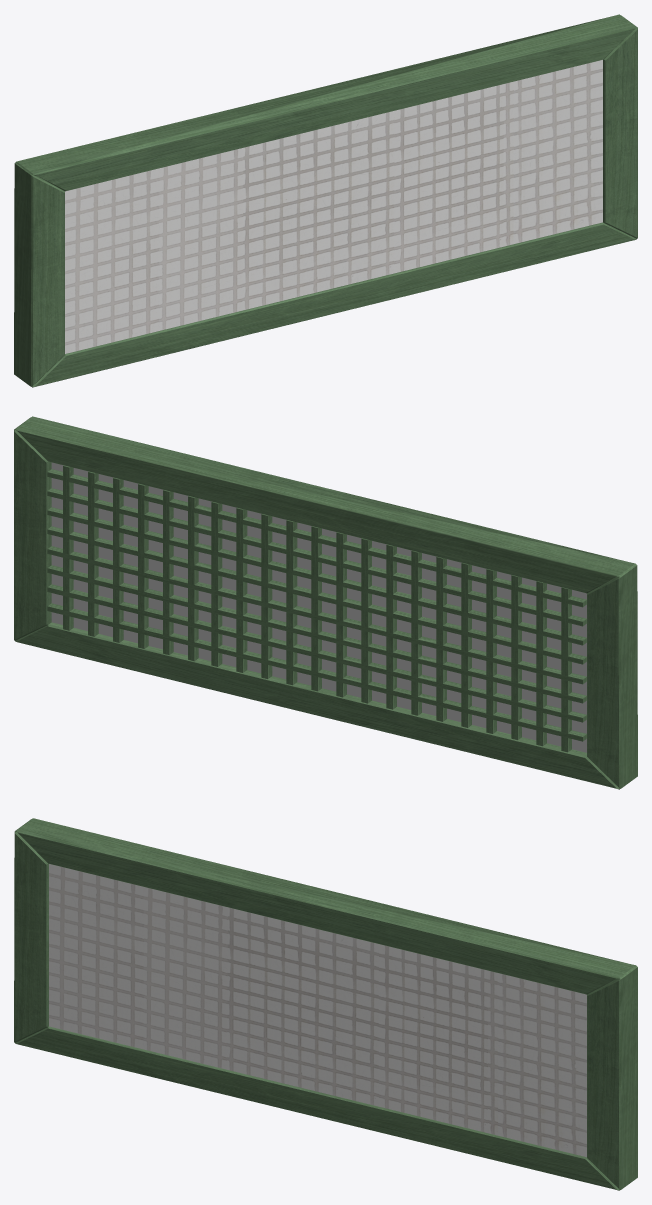
The model's file is SM_SJJ_HG_Window03A.fbx.
The picture shows the model from 3 angles, top to bottom: view 1: azimuth 30°, elevation 25°; view 2: azimuth 150°, elevation 25°; view 3: azimuth 330°, elevation 25°; orthographic projection.
Visible parts, largest first — view 1: SM_SJJ_HG_Window03A; view 2: SM_SJJ_HG_Window03A; view 3: SM_SJJ_HG_Window03A.
Boxes of the visible parts, left/top/right/bottom form: SM_SJJ_HG_Window03A: left=14, top=14, right=637, bottom=387; SM_SJJ_HG_Window03A: left=14, top=416, right=637, bottom=789; SM_SJJ_HG_Window03A: left=14, top=818, right=637, bottom=1190.
Size of the model in its own units: 106 by 5.58 by 35.74.
